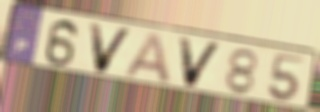5: (266, 51, 307, 104)
6: (44, 18, 82, 69)
8: (224, 48, 260, 96)
A: (122, 31, 173, 86)
V: (176, 35, 226, 90), (86, 21, 136, 75)
